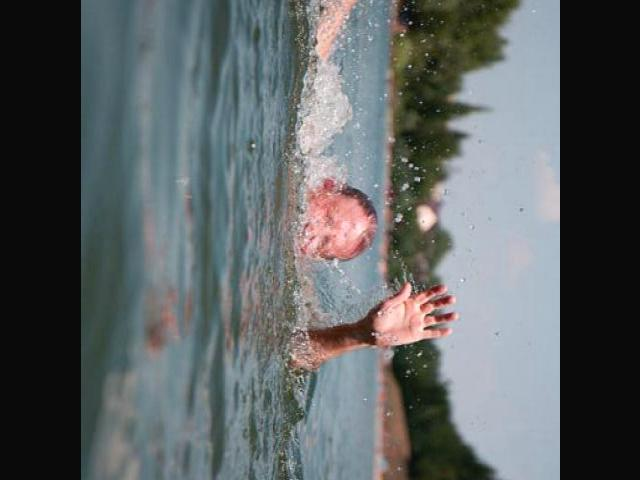drowning: (281, 0, 470, 392)
